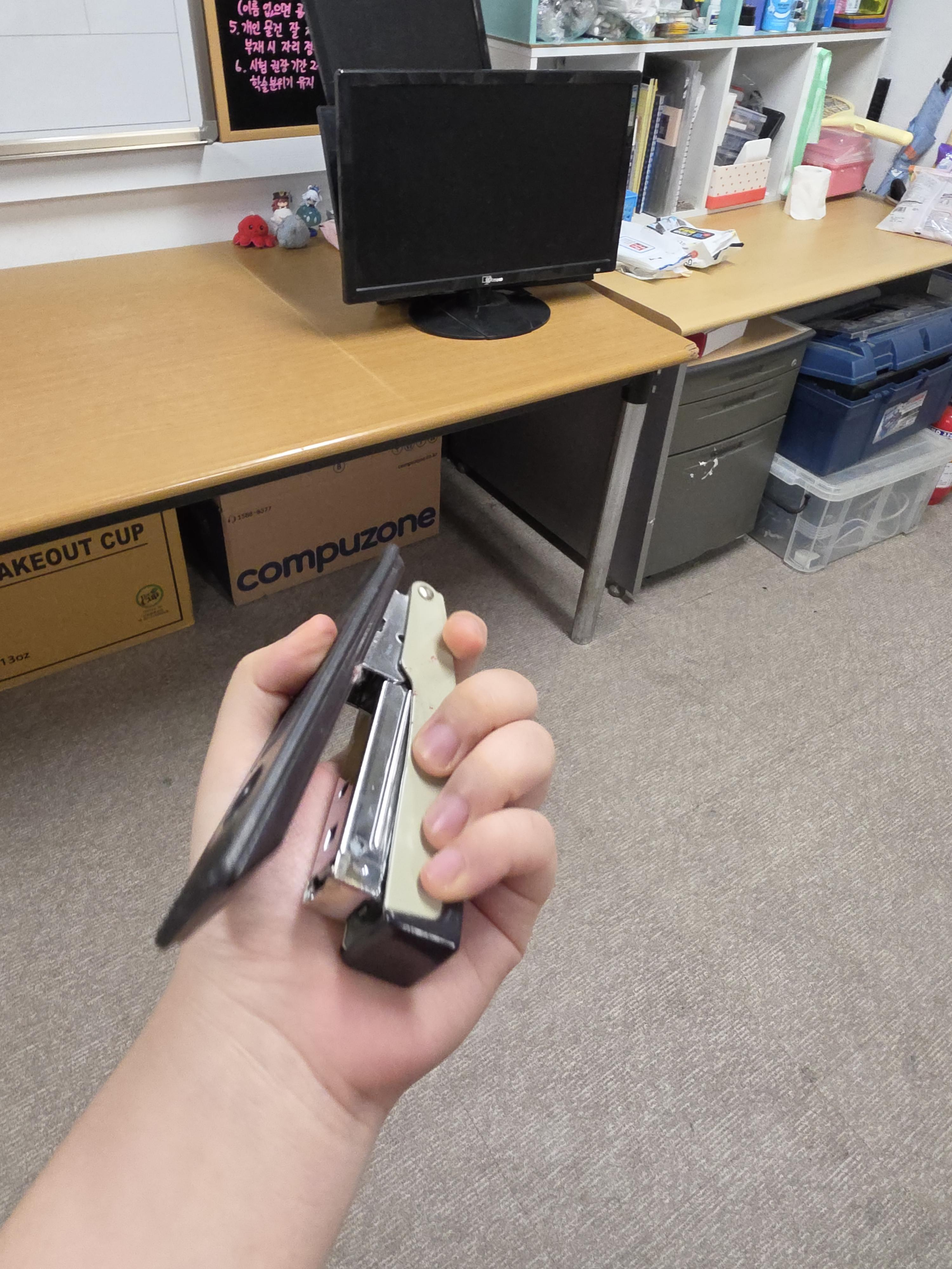stapler: (155, 543, 466, 988)
tissue: (785, 165, 832, 220)
